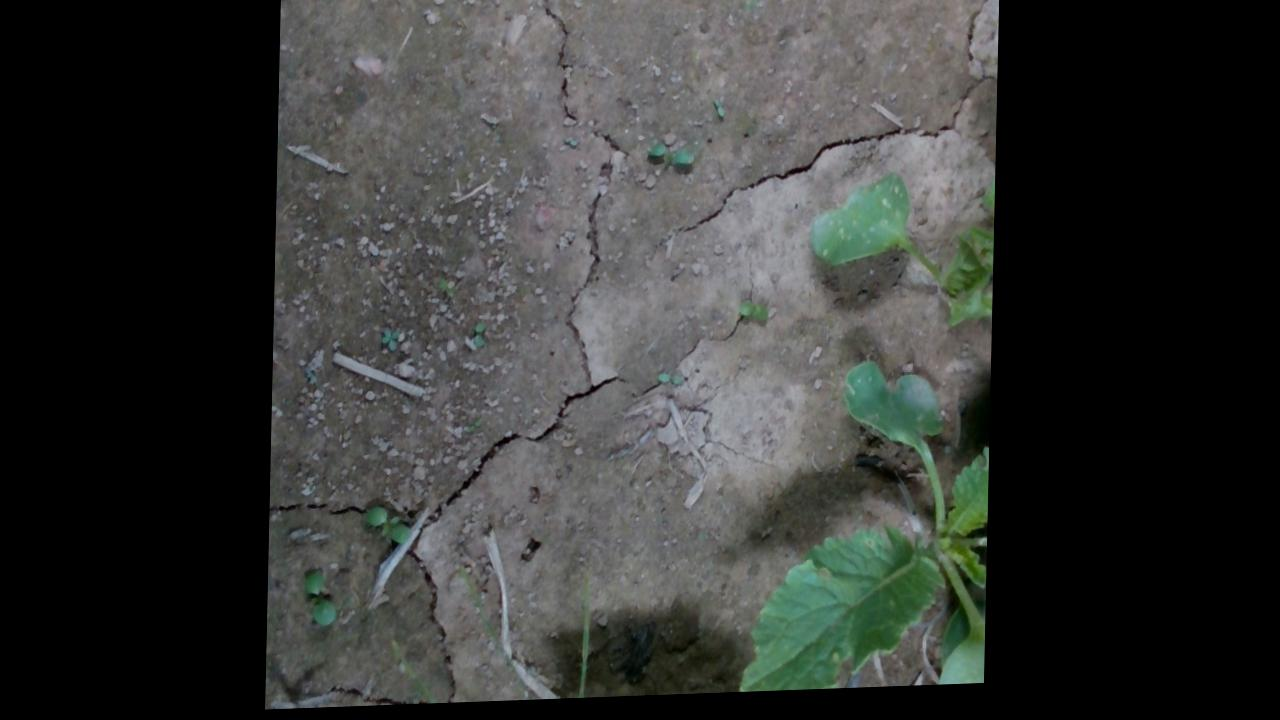weed: (366, 505, 416, 546), (307, 570, 340, 630), (646, 145, 695, 169), (740, 301, 772, 327), (714, 103, 727, 121)
